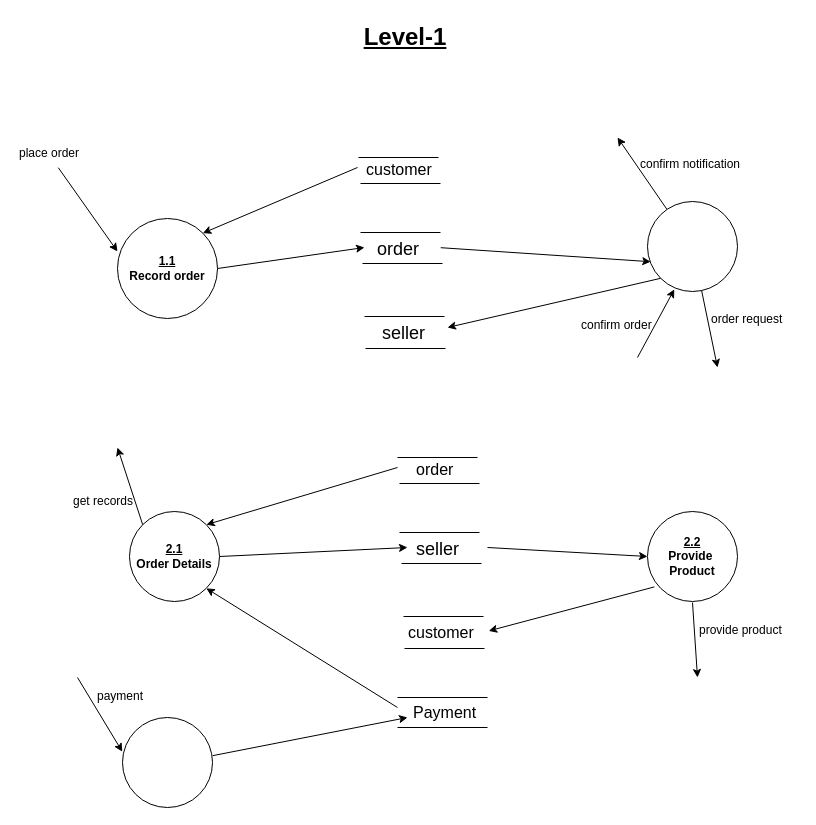
Some shapes in this 816 by 825 pixel diagram are drawn without their labels. The centre of each missing label's shape, as x and y in pixels:
1.2 Process order: the point at 692,246
2.3 Payment: the point at 167,762
